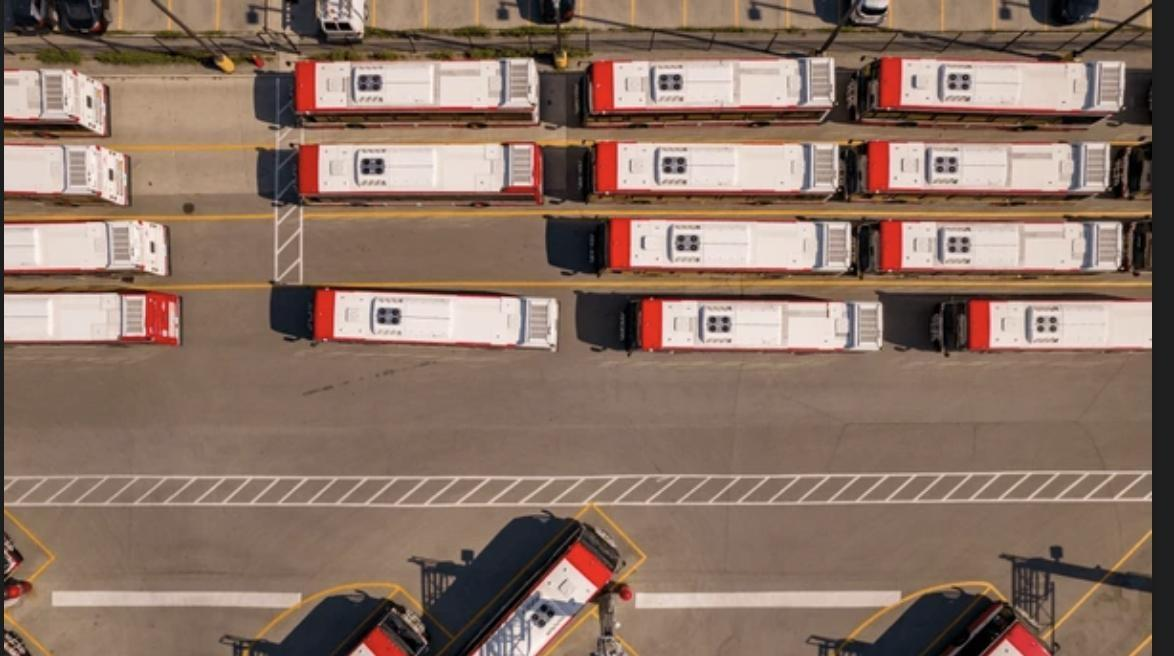Bus: (873, 48, 1132, 120), (306, 284, 566, 354), (291, 54, 547, 124), (292, 138, 550, 207), (598, 212, 860, 278), (588, 135, 844, 199), (588, 55, 842, 119), (874, 214, 1128, 278), (631, 294, 892, 356), (864, 136, 1116, 200), (940, 291, 1154, 357), (6, 288, 186, 350), (4, 220, 176, 281), (0, 58, 113, 136), (5, 142, 143, 204)
